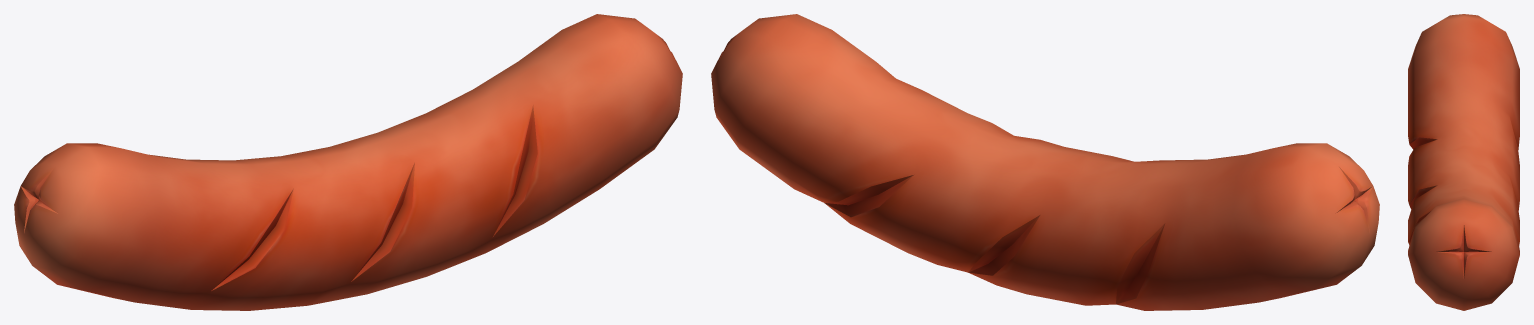
File: Sausage.fbx
3 views of the same model, side by side, from view 1: azimuth 30°, elevation 25°; view 2: azimuth 150°, elevation 25°; view 3: azimuth 270°, elevation 25° (orthographic). The views are drawn at different scales.
Parts seen in each view (by area): view 1: Sausage; view 2: Sausage; view 3: Sausage.
Part boxes in pixels (x1,y1,x2,y2): Sausage: (14,14,682,310); Sausage: (711,14,1379,310); Sausage: (1408,14,1519,310).
Bounding box in the file's own units: 165 × 49.87 × 33.45.
